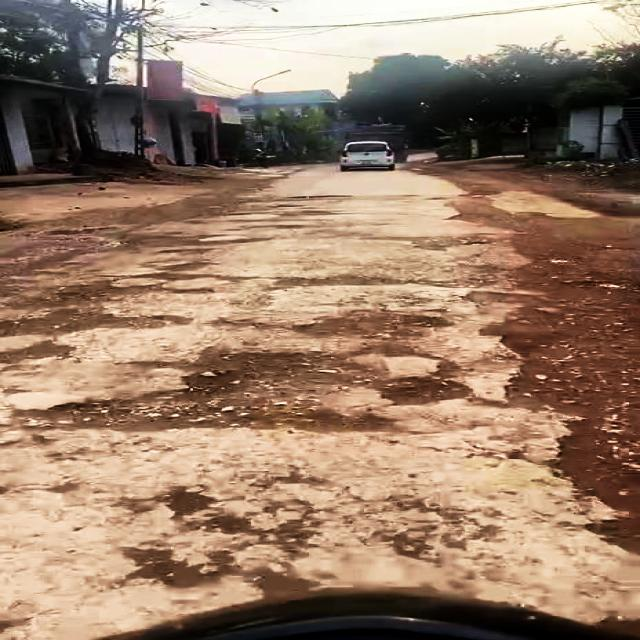pothole: (0, 348, 494, 435), (104, 489, 318, 610), (525, 418, 640, 565), (487, 322, 614, 420), (286, 302, 460, 351), (0, 304, 208, 339), (41, 272, 225, 302), (257, 272, 411, 289), (0, 334, 87, 364), (461, 286, 545, 316)
